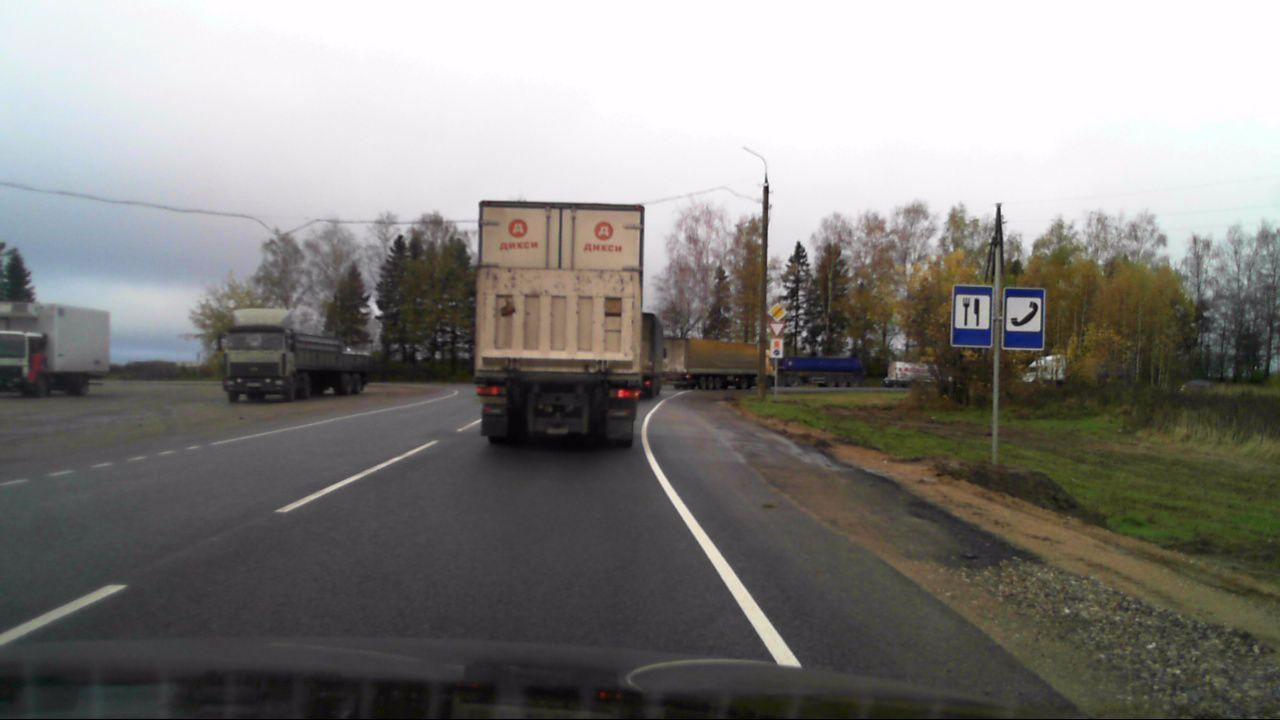2_2: (766, 301, 787, 321)
2_4: (769, 321, 785, 336)
4_8_2: (768, 338, 785, 358)
7_6: (1000, 288, 1045, 350)
7_7: (952, 283, 992, 351)
